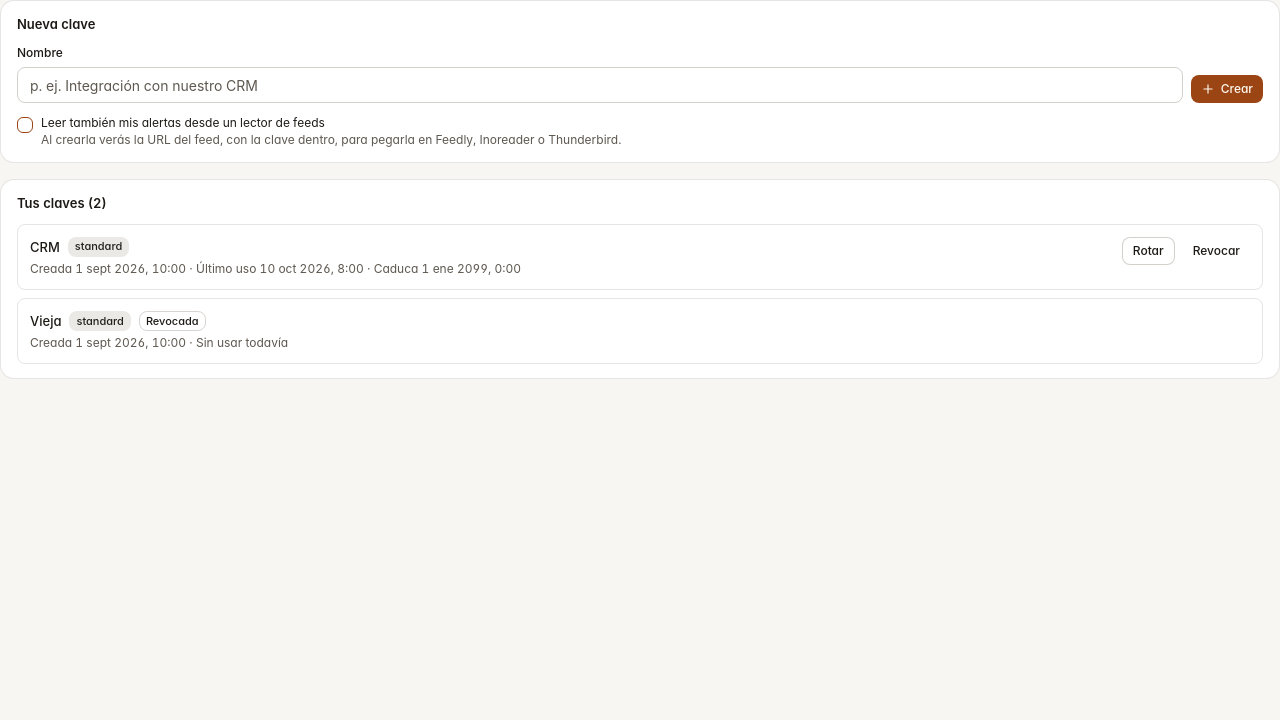
Scenario: Claves: revocar › con la sesión antigua ofrece volver a entrar dentro del diálogo
Step 1. Click the button "Revocar" → (1216,251), box [1183,237,1250,265]
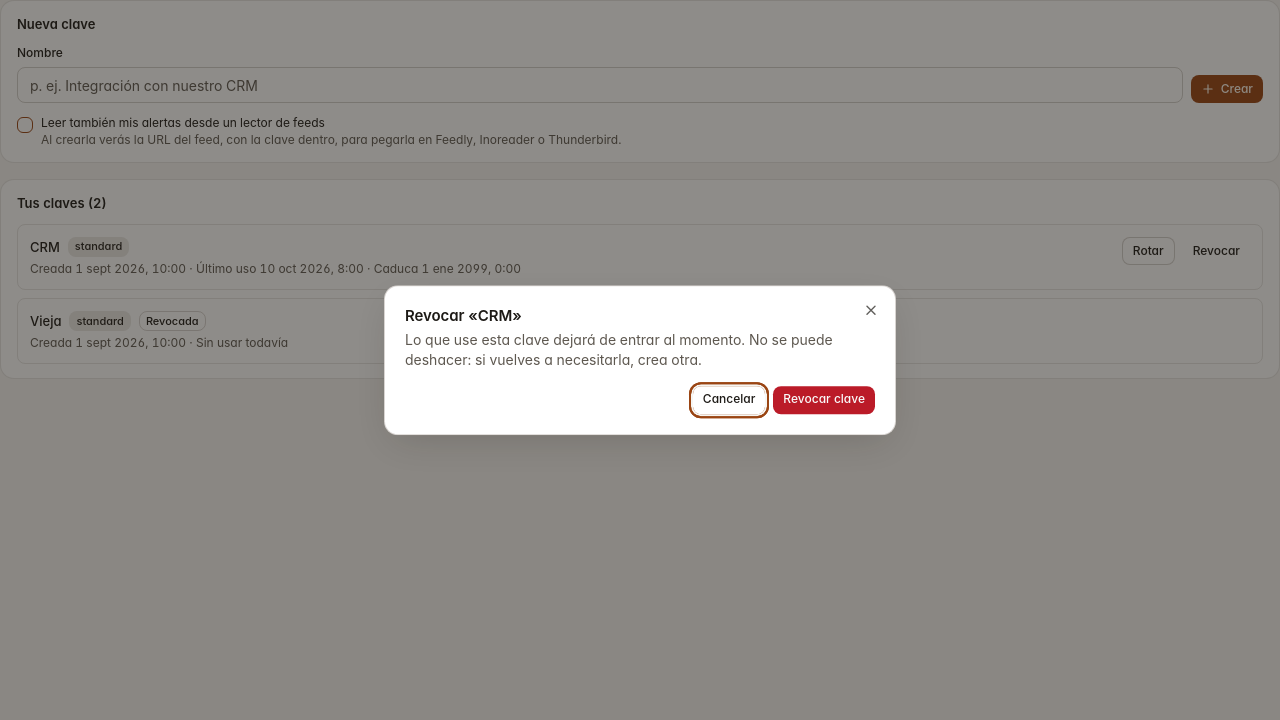
Step 2. Click the button "Revocar clave" → (824,400), box [773,386,875,414]
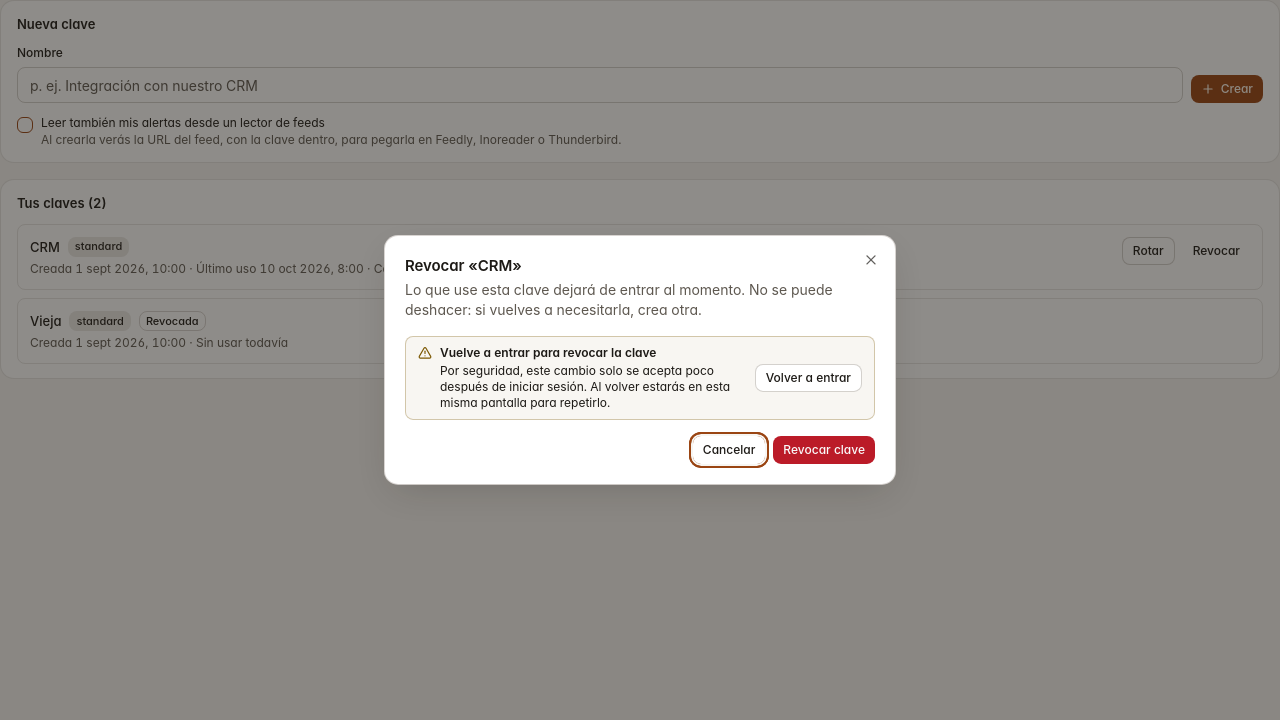
Result: the button "Volver a entrar" is shown at [755,364,862,392]
